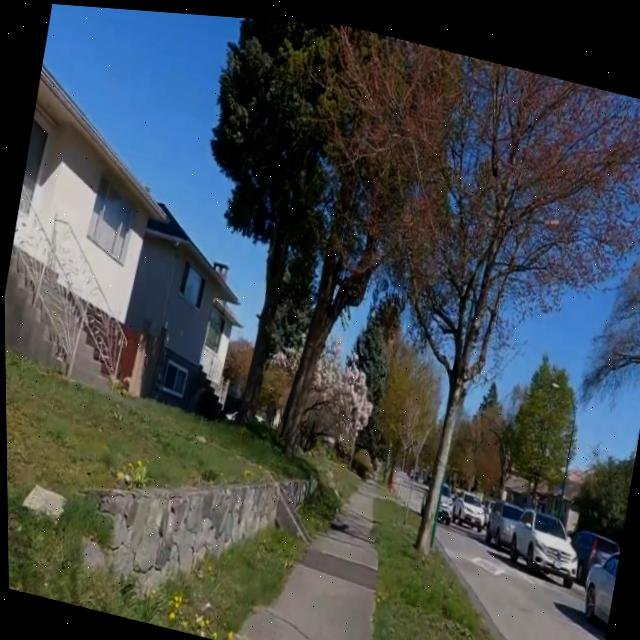Automobile: (508, 500, 575, 578), (583, 544, 618, 617), (570, 520, 617, 574), (483, 492, 521, 541), (456, 485, 483, 523), (436, 478, 450, 516)
Road: (436, 519, 605, 640), (394, 467, 424, 517)
Sidewalk: (228, 480, 375, 640)
